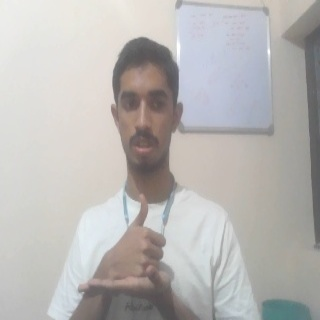Face: (108, 37, 185, 172)
Help: (75, 190, 181, 304)
